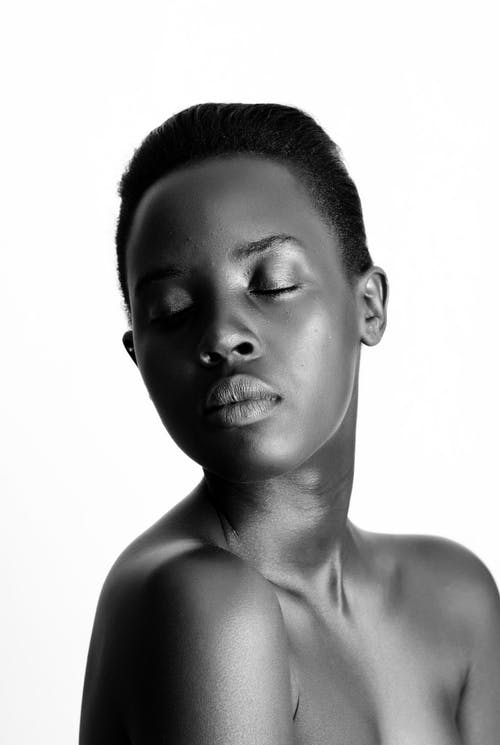person: (116, 105, 389, 481)
